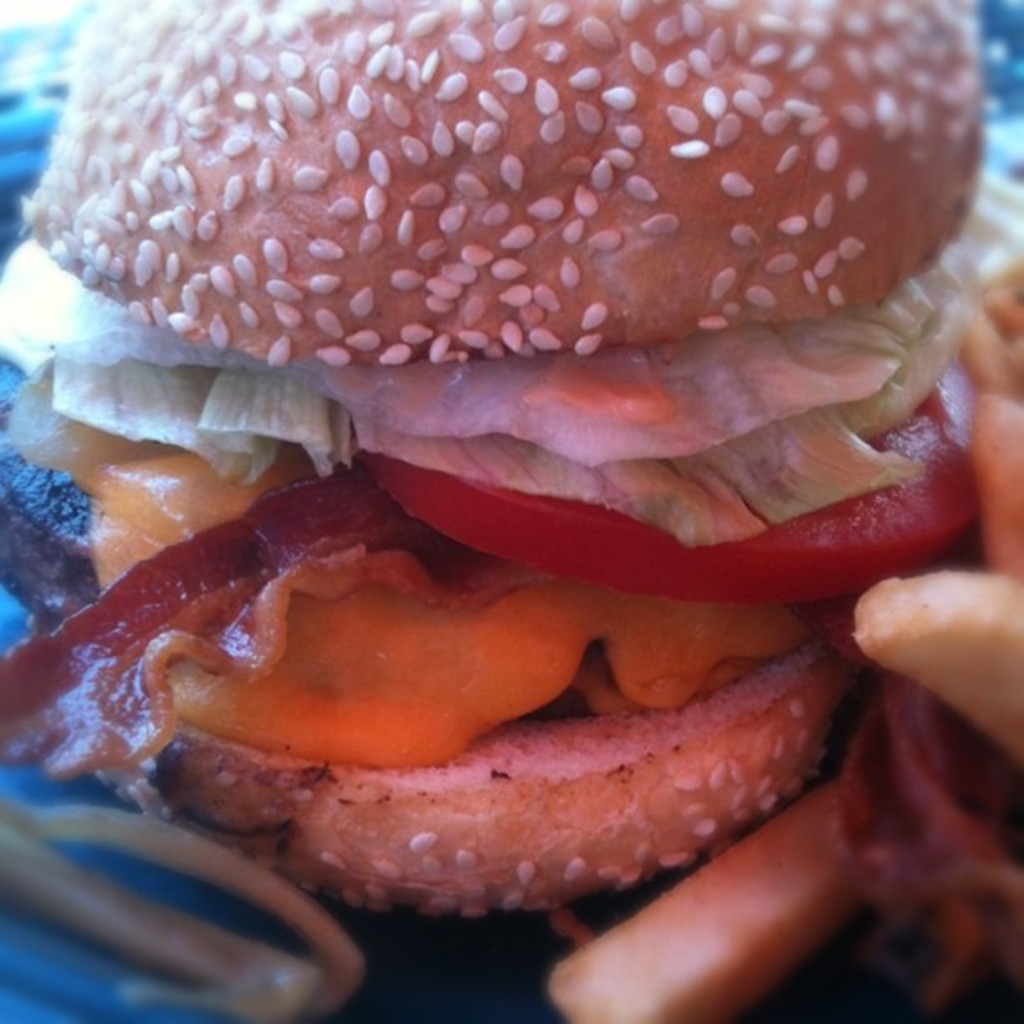Hamburger: (0, 0, 1022, 901)
